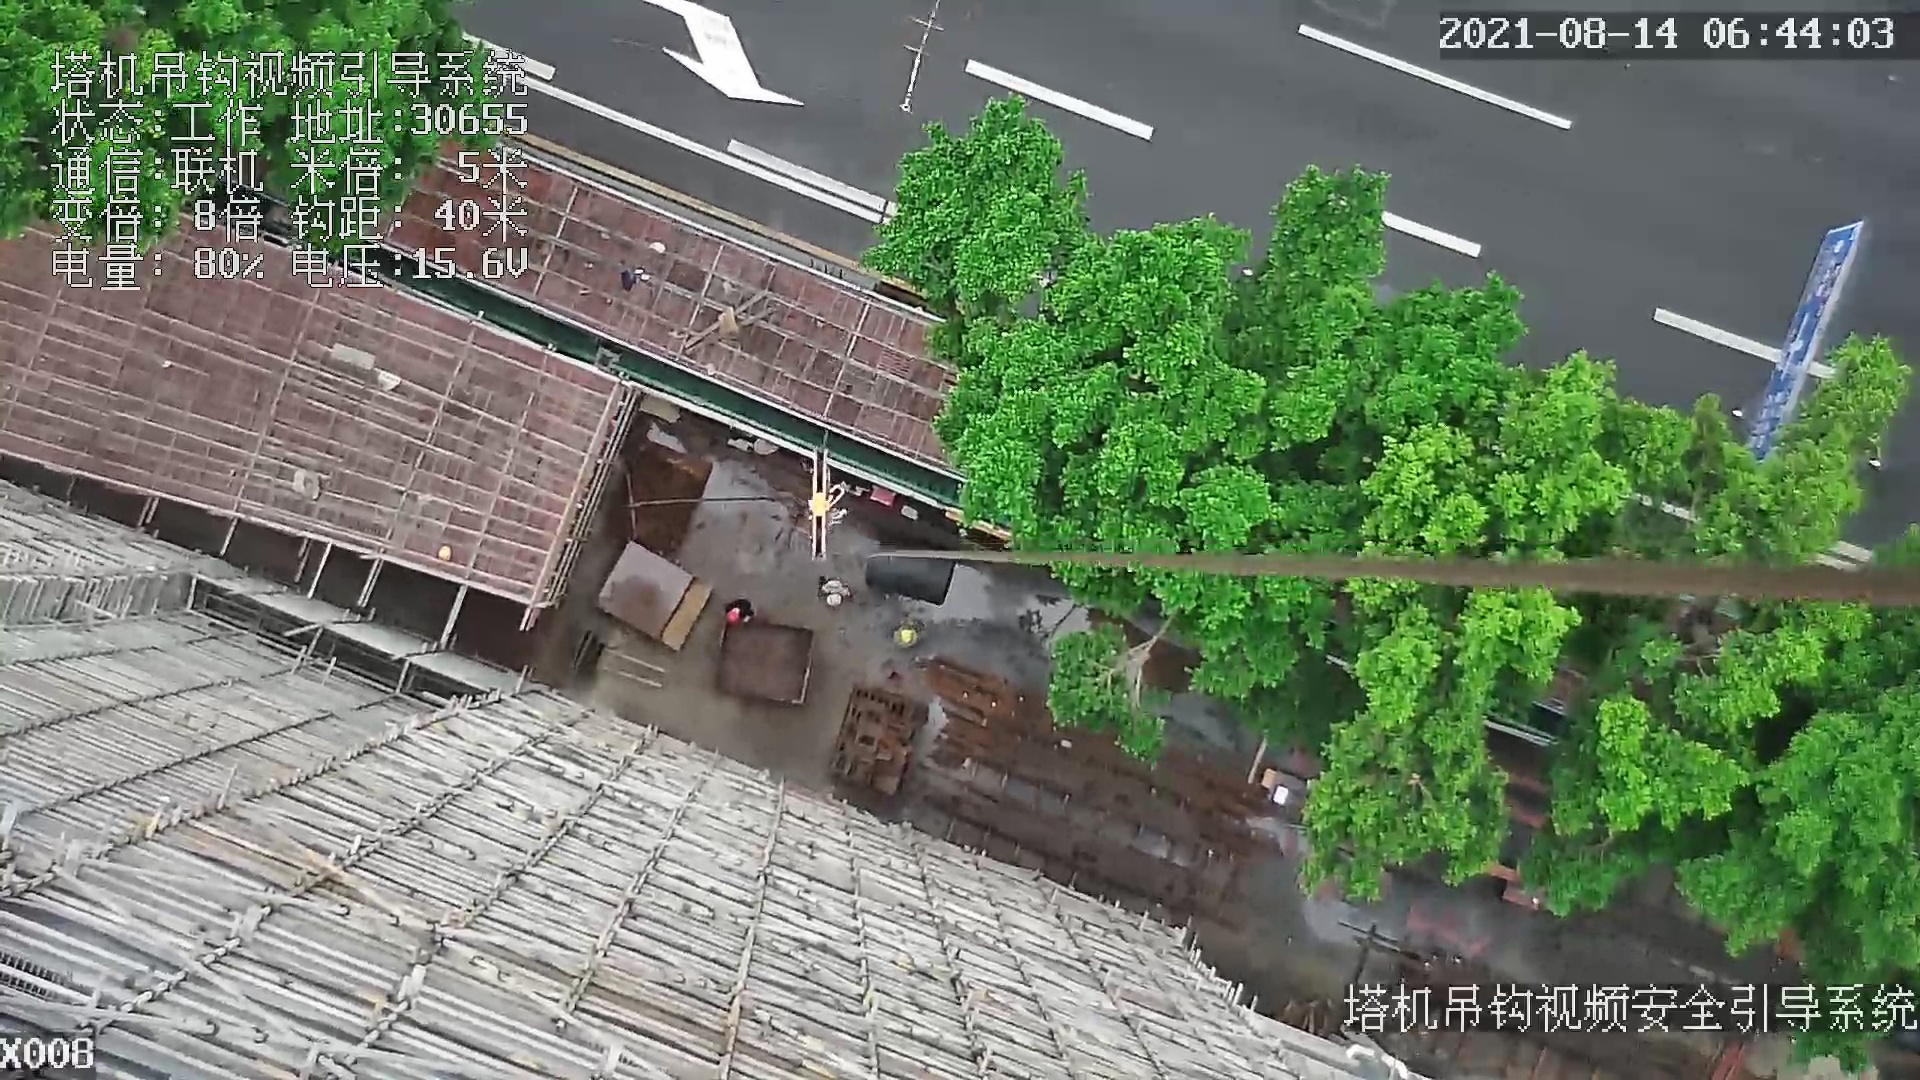helmet: (433, 544, 454, 562), (827, 594, 842, 606), (901, 631, 916, 644), (726, 610, 735, 620)
hook: (799, 444, 846, 559)
person: (814, 573, 854, 606), (717, 594, 754, 623), (897, 619, 928, 649)
